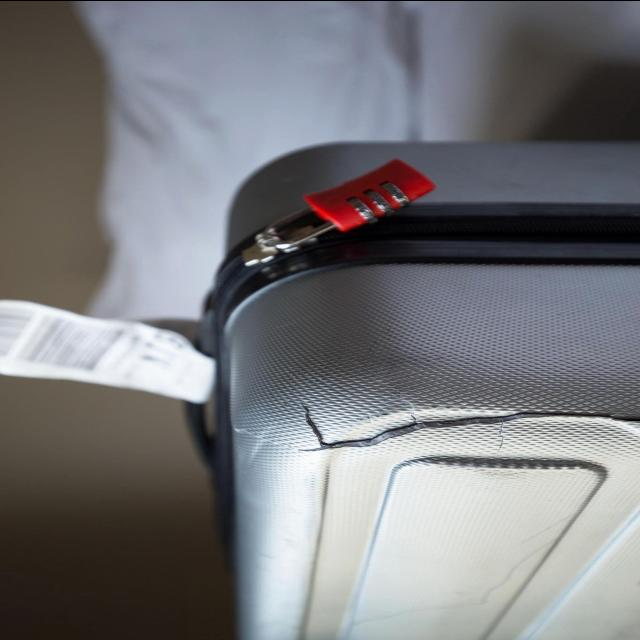Damage-bag: (302, 398, 640, 450)
